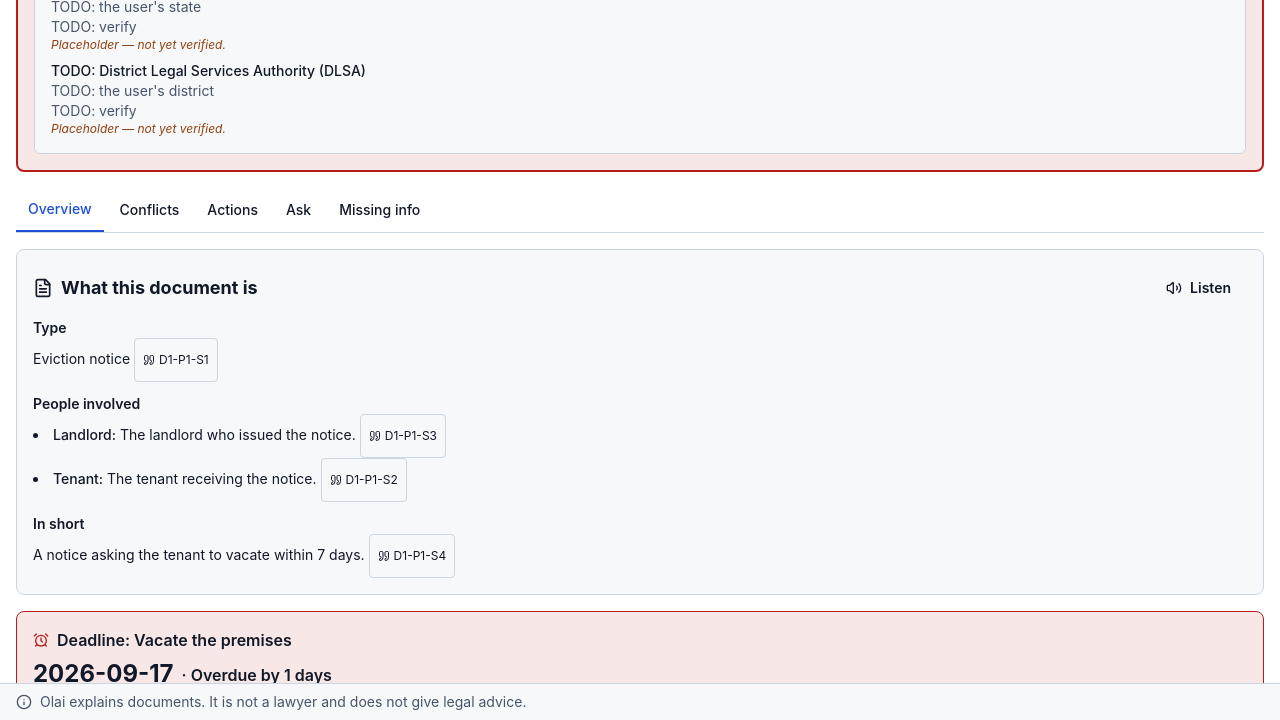
Scenario: DashboardScreen (eviction demo) › opens the citation drawer from a citation chip
(page scrolled)
Click the button named "view citation": coordinates (176, 360) [134,338,218,382]
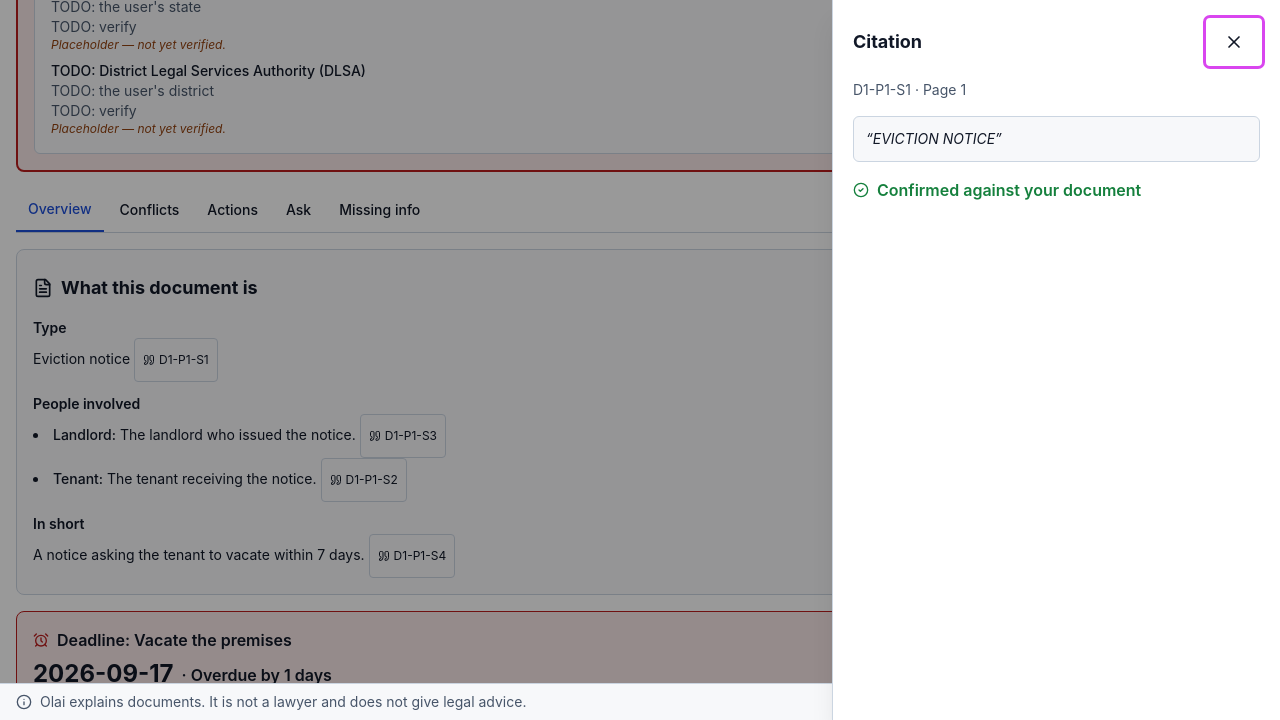
Check: the dialog is shown, box [832,0,1279,719]
Check: the text "“EVICTION NOTICE”" is shown, box [866,130,1002,147]
